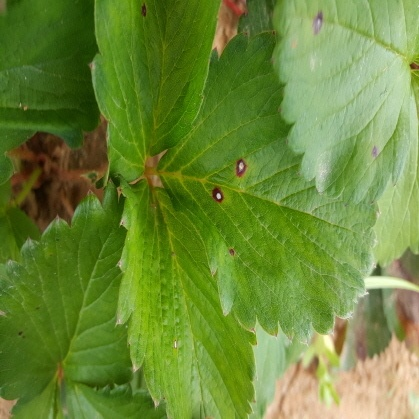Leaf_Spot: (156, 73, 378, 394), (270, 26, 418, 418), (0, 14, 134, 379), (114, 0, 259, 243), (89, 157, 220, 418)
